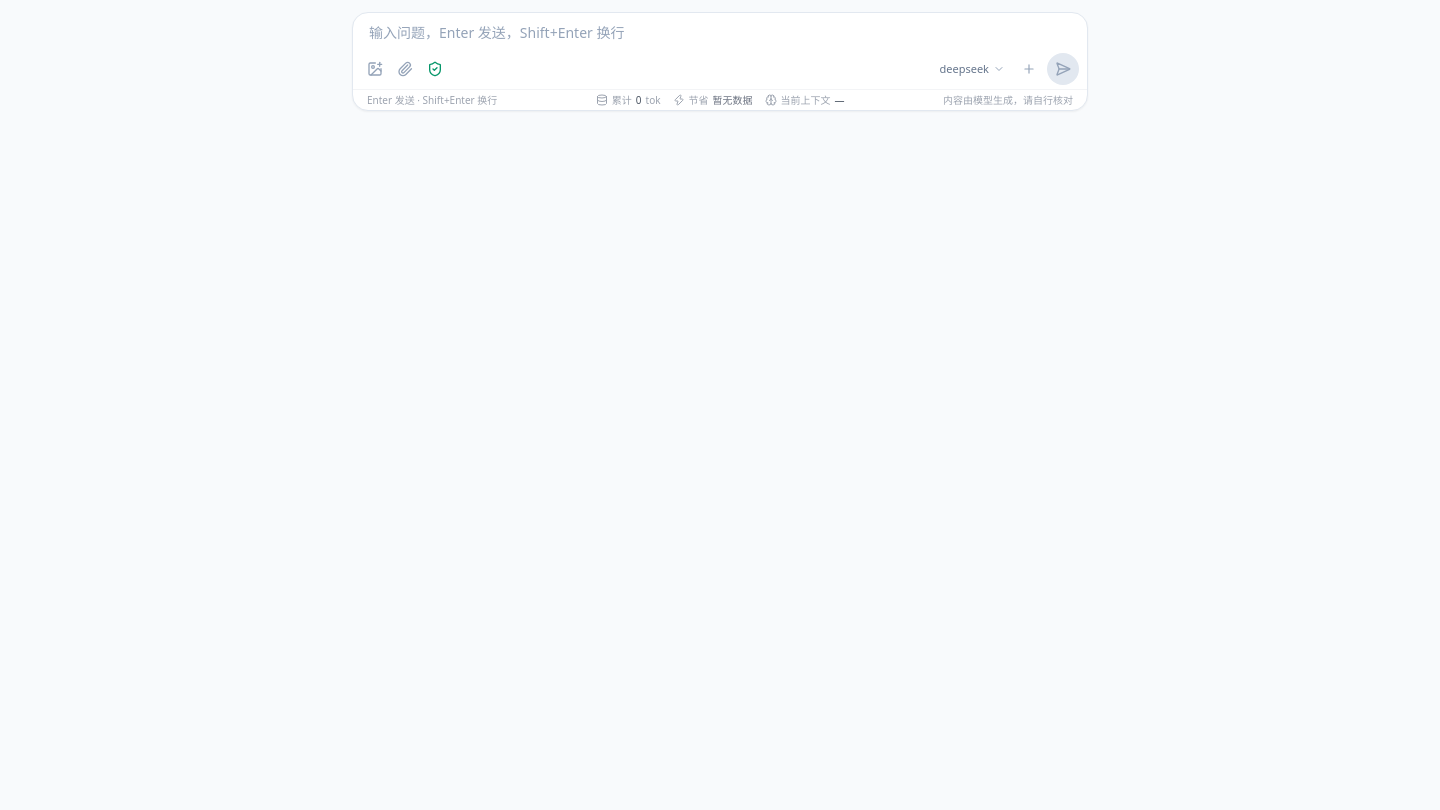
Test: 模型管理面板 › 表单校验：非法名称 / 非 http 的 URL 直接提示，不发请求
The image size is (1440, 810).
Click the button named "模型管理" at {"x": 1029, "y": 69}, box 1015,55 -> 1043,83
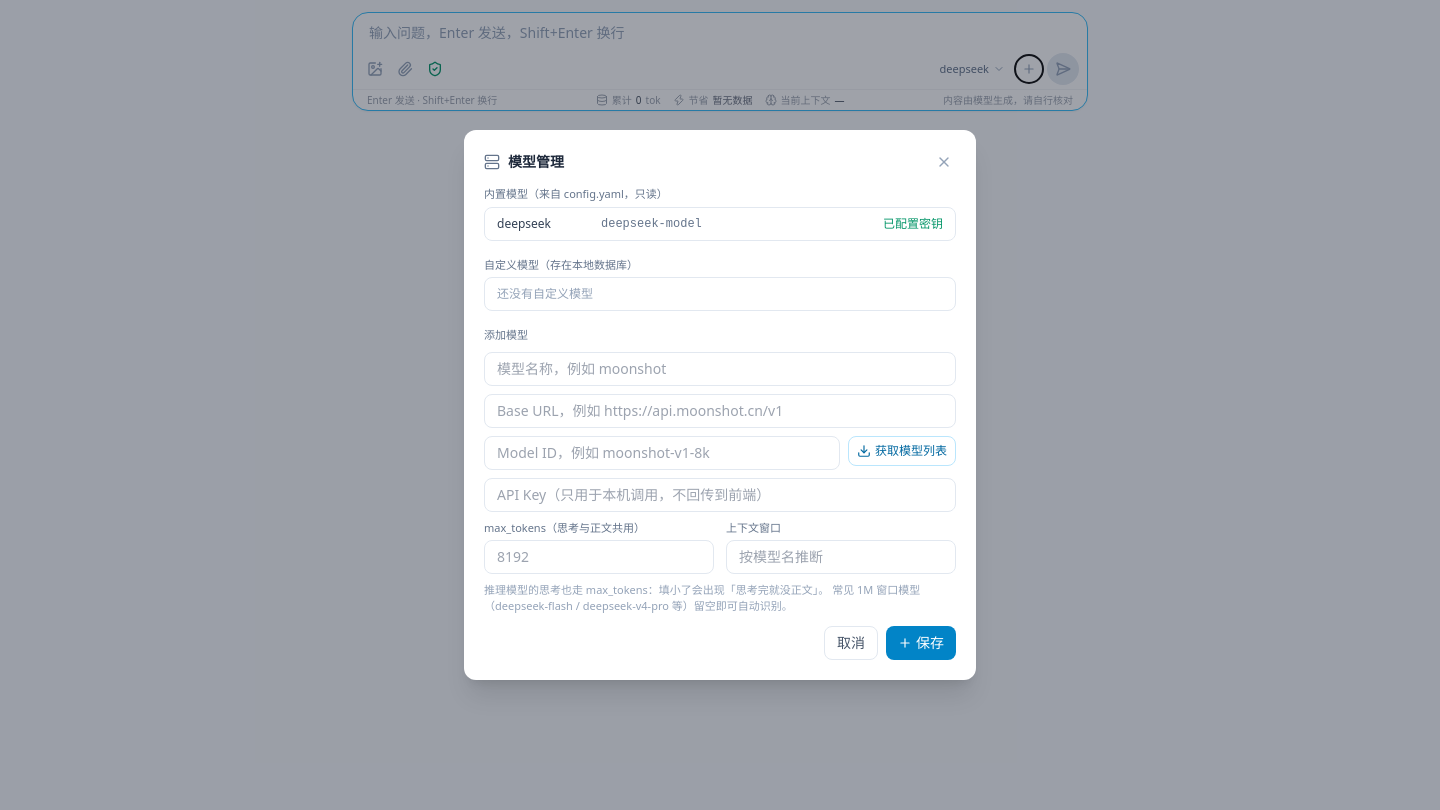
Type "有 空格" into the field labelled "模型名称" at {"x": 720, "y": 368}, box 484,352 -> 956,386
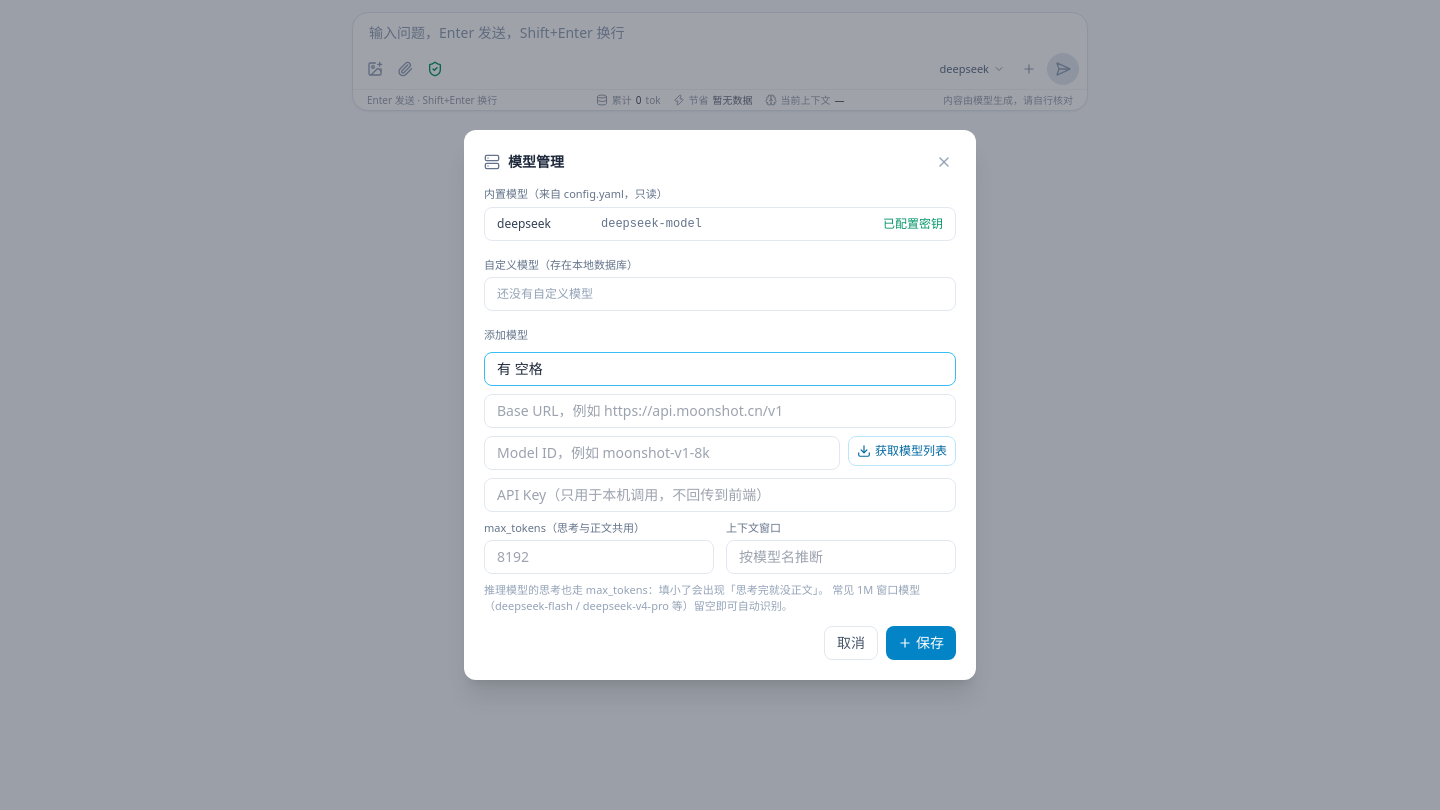
Type "ftp://x/v1" into the field labelled "Base URL" at {"x": 720, "y": 410}, box 484,394 -> 956,428
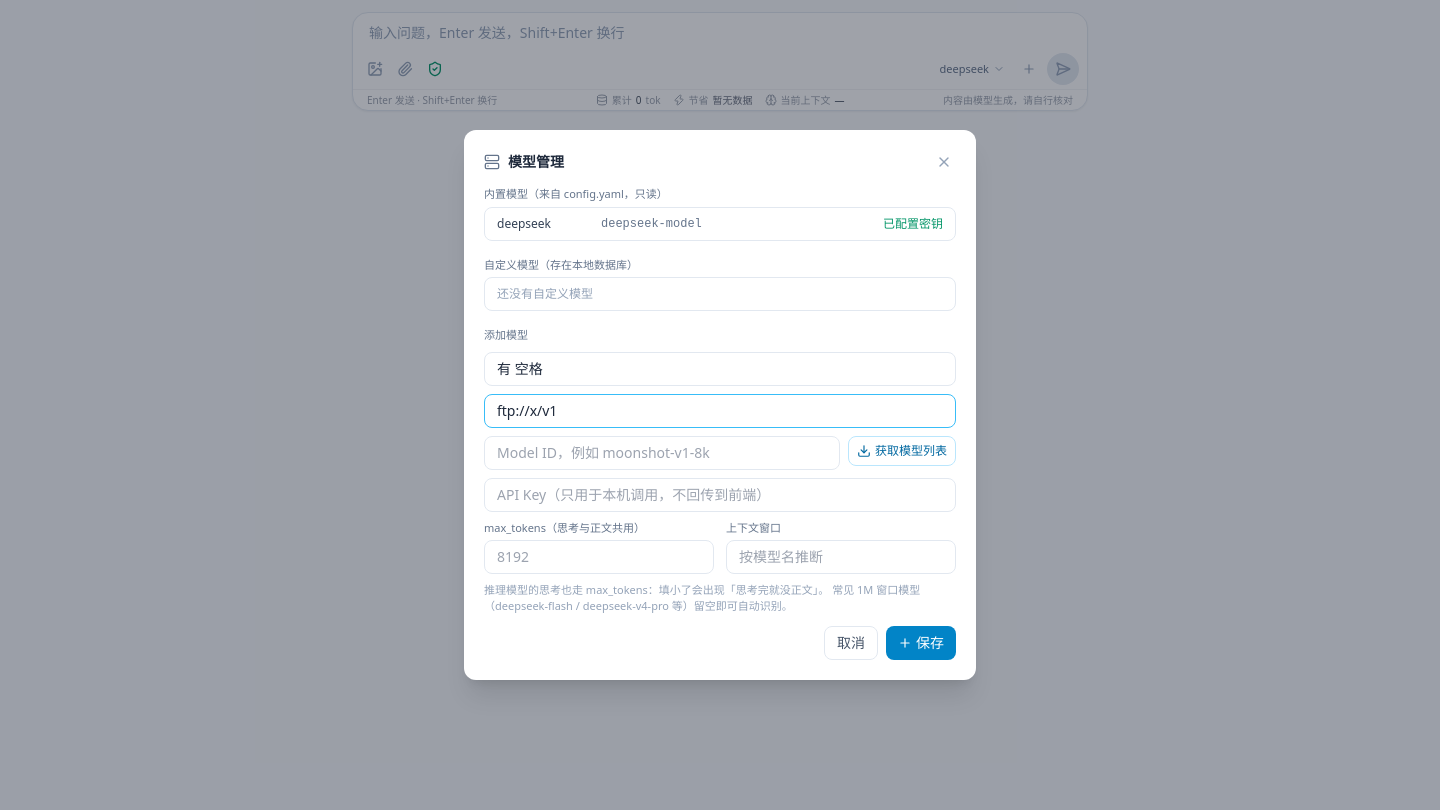
Type "m" into the field labelled "Model ID" at {"x": 662, "y": 452}, box 484,436 -> 840,470
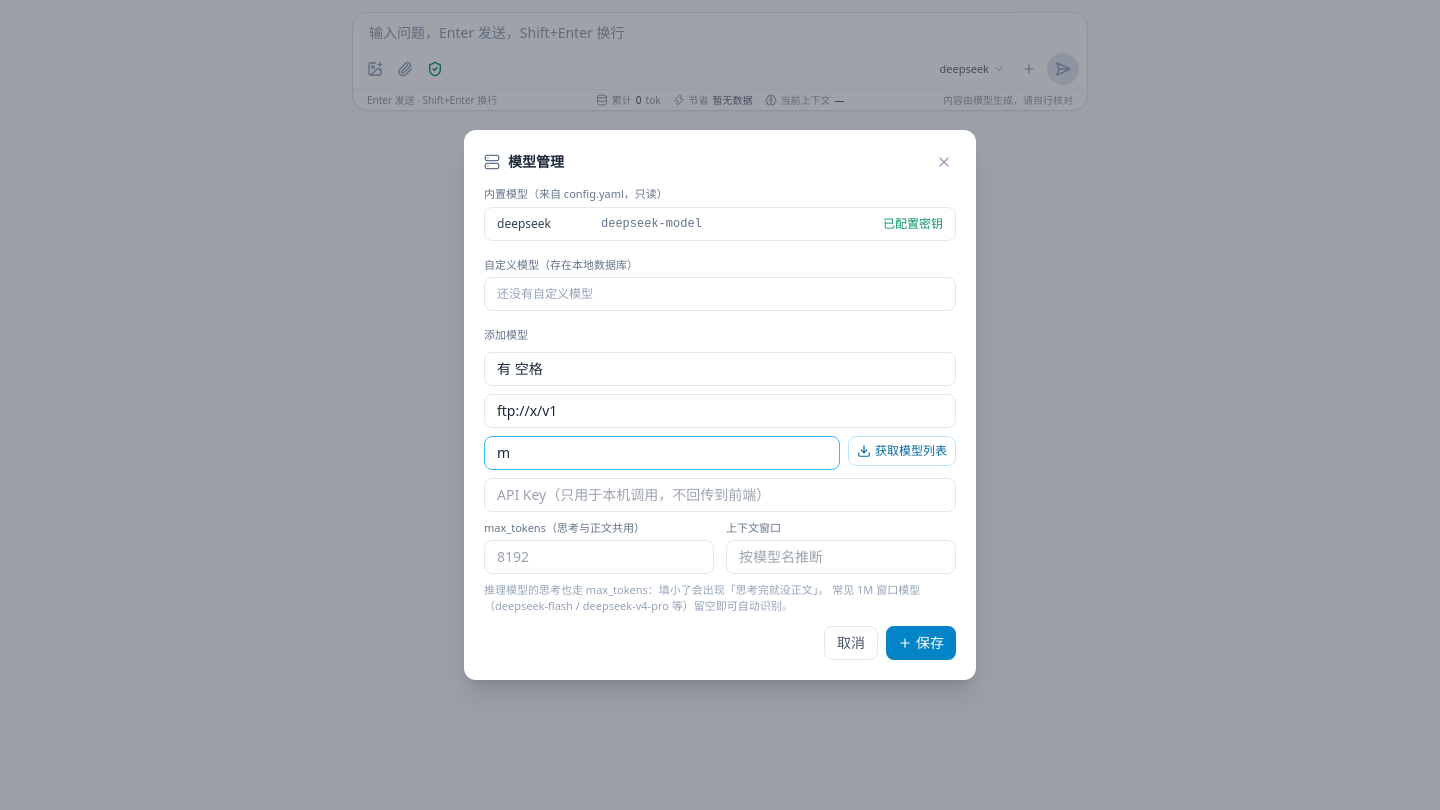
Type "k" into the password field labelled "API Key" at {"x": 720, "y": 494}, box 484,478 -> 956,512
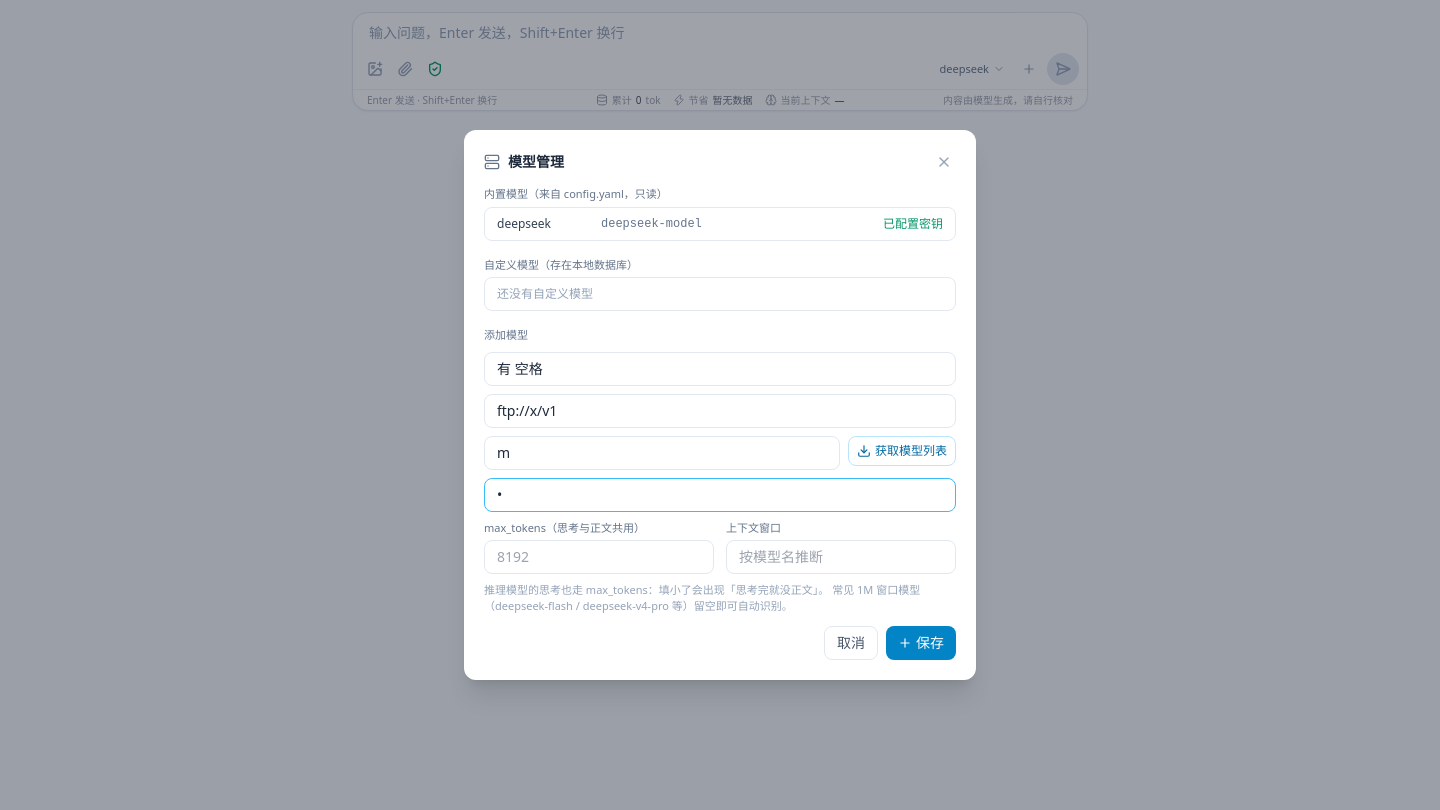
Click the button "保存" at {"x": 921, "y": 643}, box 886,626 -> 956,660
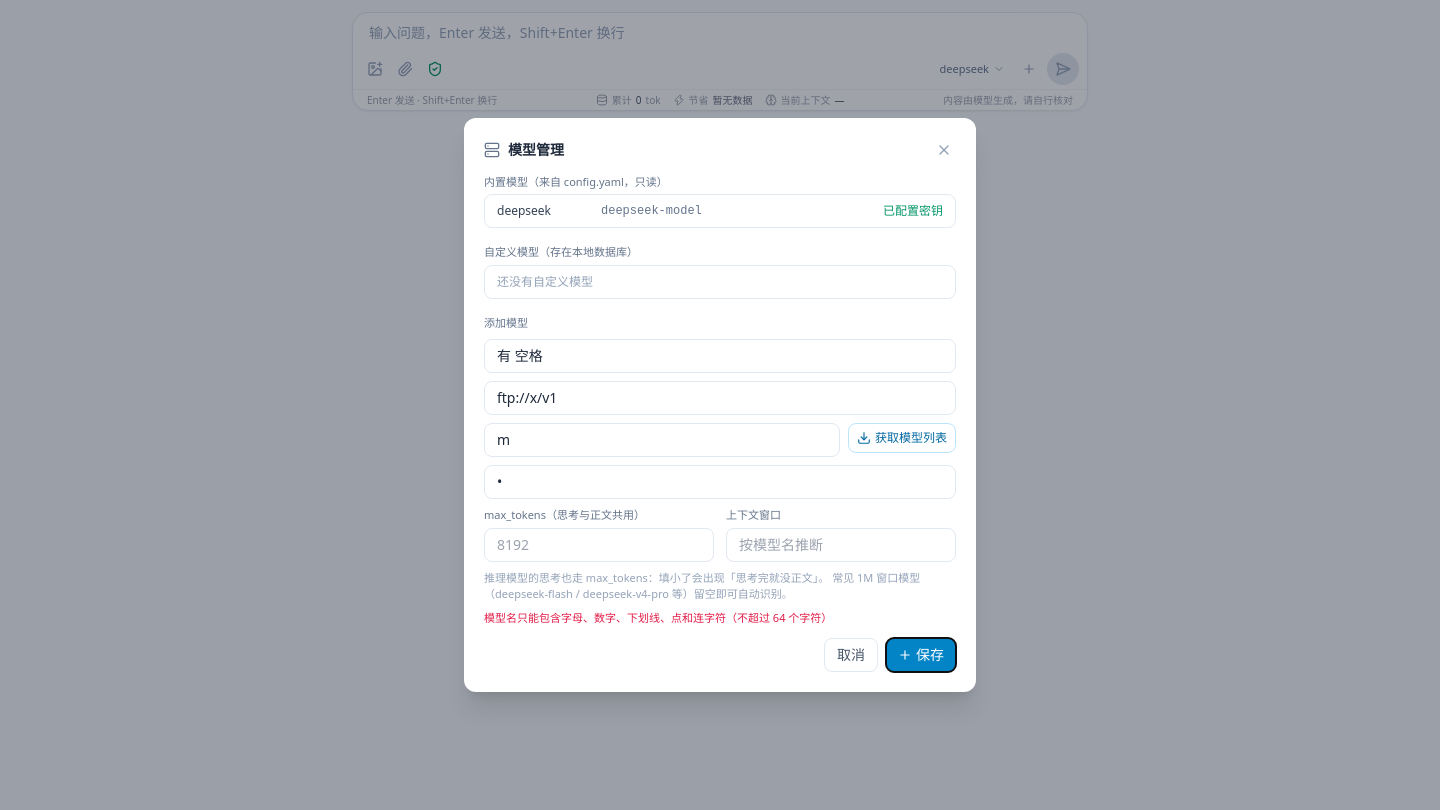
Expected: the text "模型名只能包含字母、数字、下划线、点和连字符（不超过 64 个字符）" is shown, 484,610 -> 832,625
